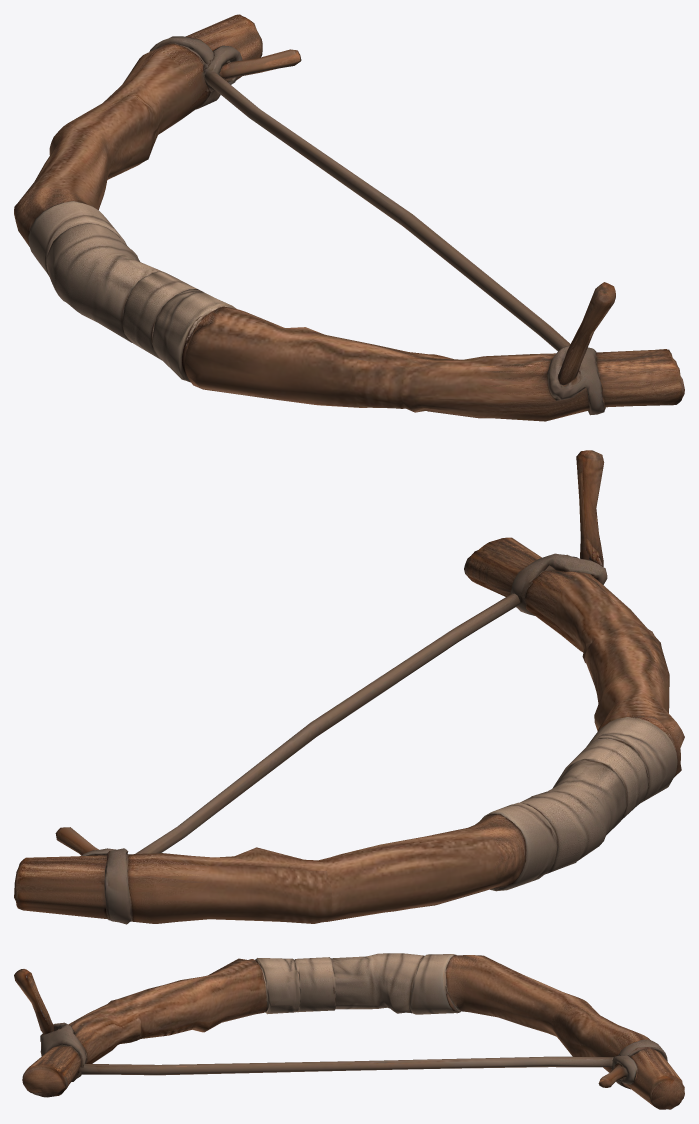
File: EQ_Wooden_Bow.fbx
3 views of the same model, one above another, from view 1: azimuth 30°, elevation 25°; view 2: azimuth 150°, elevation 25°; view 3: azimuth 270°, elevation 25° (orthographic). The views are drawn at different scales.
Parts seen in each view (by area): view 1: EQ_Wooden_Bow; view 2: EQ_Wooden_Bow; view 3: EQ_Wooden_Bow.
Part boxes in pixels (x1,y1,x2,y2): EQ_Wooden_Bow: [14, 14, 684, 421]; EQ_Wooden_Bow: [14, 450, 684, 924]; EQ_Wooden_Bow: [14, 953, 684, 1109].
Size of the model in its own units: 85.98 by 35.58 by 185.
Materials: 1 (1 with a texture image).
